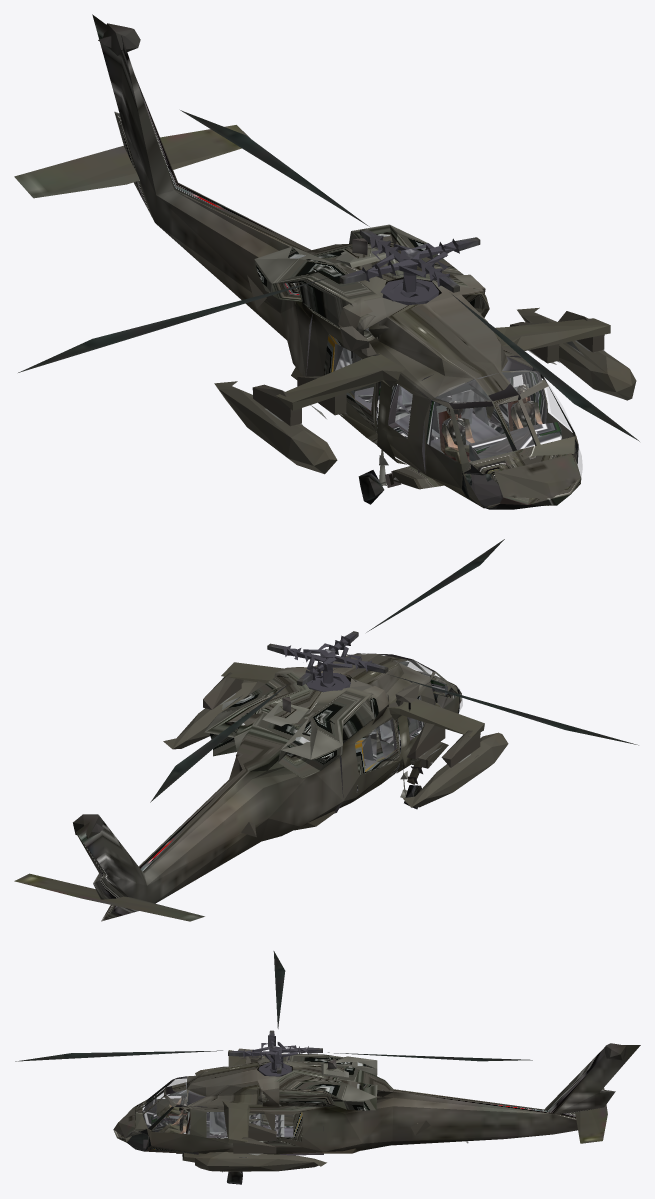
3 renders of one model, top to bottom at view 1: azimuth 30°, elevation 25°; view 2: azimuth 150°, elevation 25°; view 3: azimuth 270°, elevation 25°, orthographic. The views are drawn at different scales.
Visible parts, largest first — view 1: Object_10, Object_6, Object_9, Object_2, Object_7, Object_8; view 2: Object_10, Object_6, Object_2, Object_9, Object_7; view 3: Object_10, Object_6, Object_9, Object_2, Object_7.
Boxes of the visible parts, box(x1,y1,x2,y2) form: Object_10: box(14, 14, 636, 508); Object_6: box(18, 110, 639, 461); Object_9: box(331, 344, 582, 508); Object_2: box(339, 228, 542, 485); Object_7: box(306, 314, 578, 509); Object_8: box(394, 370, 541, 480); Object_10: box(14, 653, 508, 921); Object_6: box(150, 539, 638, 802); Object_2: box(267, 631, 440, 707); Object_9: box(362, 672, 462, 769); Object_7: box(334, 653, 459, 813); Object_10: box(113, 1043, 640, 1184); Object_6: box(15, 951, 532, 1153); Object_9: box(126, 1086, 292, 1150); Object_2: box(156, 1030, 322, 1133); Object_7: box(127, 1076, 323, 1155).
Bounding box in the file's own units: 1.45 × 0.521 × 2.42.
Materials: 9 (6 with a texture image).
